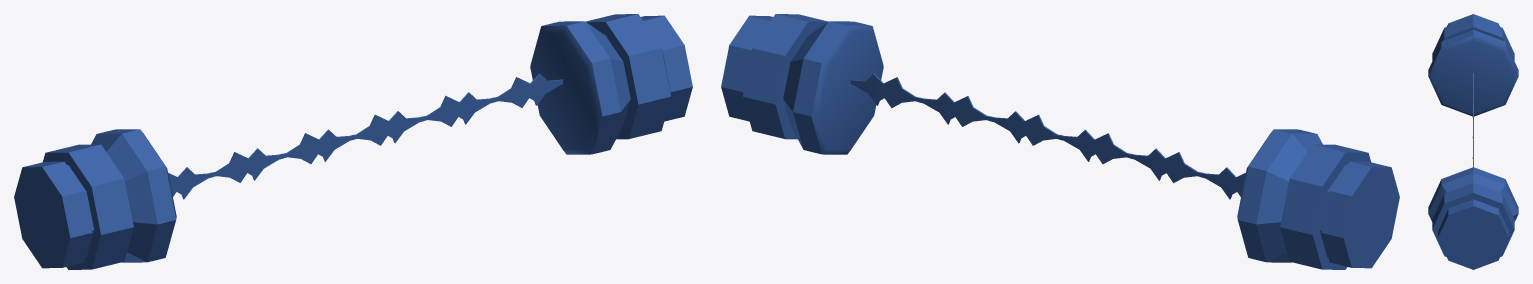
Rendered from SPARK OBSTACLE.fbx.
3 renders of one model, left to right at view 1: azimuth 30°, elevation 25°; view 2: azimuth 150°, elevation 25°; view 3: azimuth 270°, elevation 25°, orthographic. The views are drawn at different scales.
Visible parts, largest first — view 1: pCylinder1, pCylinder2, polySurface6; view 2: pCylinder1, pCylinder2, polySurface6; view 3: pCylinder2, pCylinder1, polySurface6.
Part boxes in pixels (x1,y1,x2,y2): pCylinder1: (14, 129, 176, 269); pCylinder2: (530, 14, 692, 154); polySurface6: (168, 73, 562, 199); pCylinder1: (1237, 129, 1399, 269); pCylinder2: (721, 14, 883, 154); polySurface6: (850, 73, 1245, 199); pCylinder2: (1428, 167, 1518, 269); pCylinder1: (1428, 14, 1518, 116); polySurface6: (1472, 73, 1473, 167).
Bounding box in the file's own units: 303 × 60.22 × 60.45.
